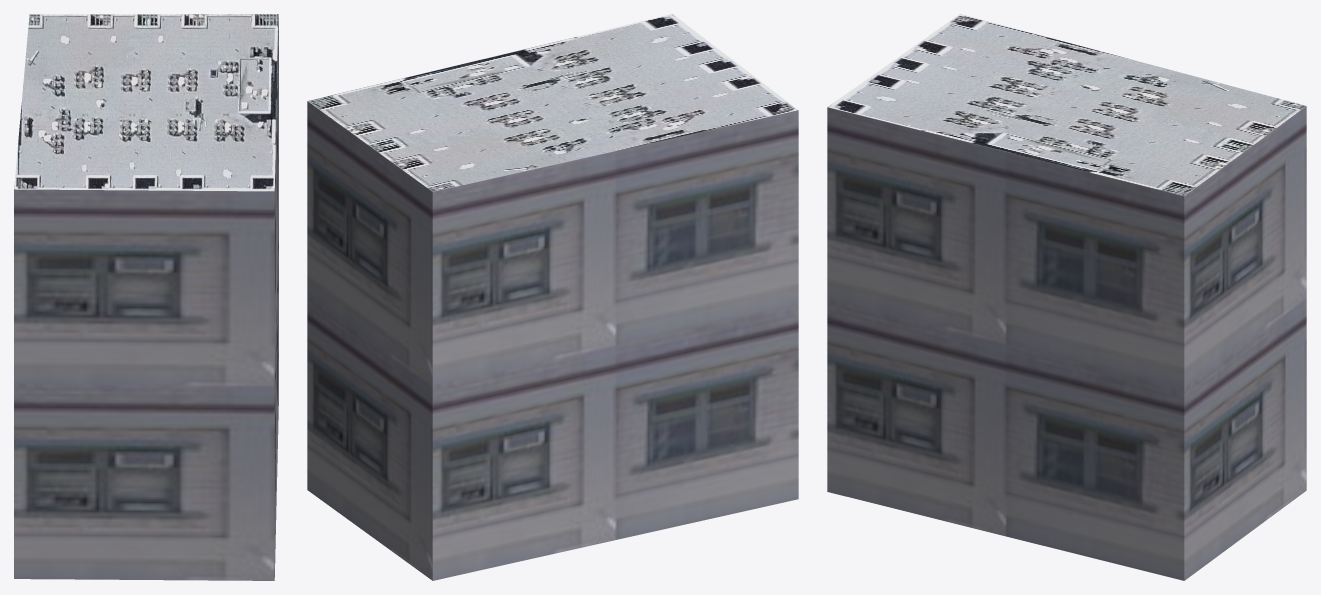
File: ResTex__3614.fbx
3 renders of one model, left to right at view 1: azimuth 30°, elevation 25°; view 2: azimuth 150°, elevation 25°; view 3: azimuth 270°, elevation 25°, orthographic.
Visible parts, largest first — view 1: CityEngineMaterial_1_m, CityEngineMaterial_4_m; view 2: CityEngineMaterial_1_m, CityEngineMaterial_4_m; view 3: CityEngineMaterial_1_m, CityEngineMaterial_4_m.
Part boxes in pixels (x1,y1,x2,y2): CityEngineMaterial_1_m: [14, 16, 278, 580]; CityEngineMaterial_4_m: [14, 14, 278, 191]; CityEngineMaterial_1_m: [307, 101, 798, 580]; CityEngineMaterial_4_m: [307, 14, 798, 191]; CityEngineMaterial_1_m: [827, 106, 1306, 580]; CityEngineMaterial_4_m: [827, 14, 1305, 196].
Bounding box in the file's own units: 6.1 × 6 × 6.77.
Materials: 2 (2 with a texture image).
